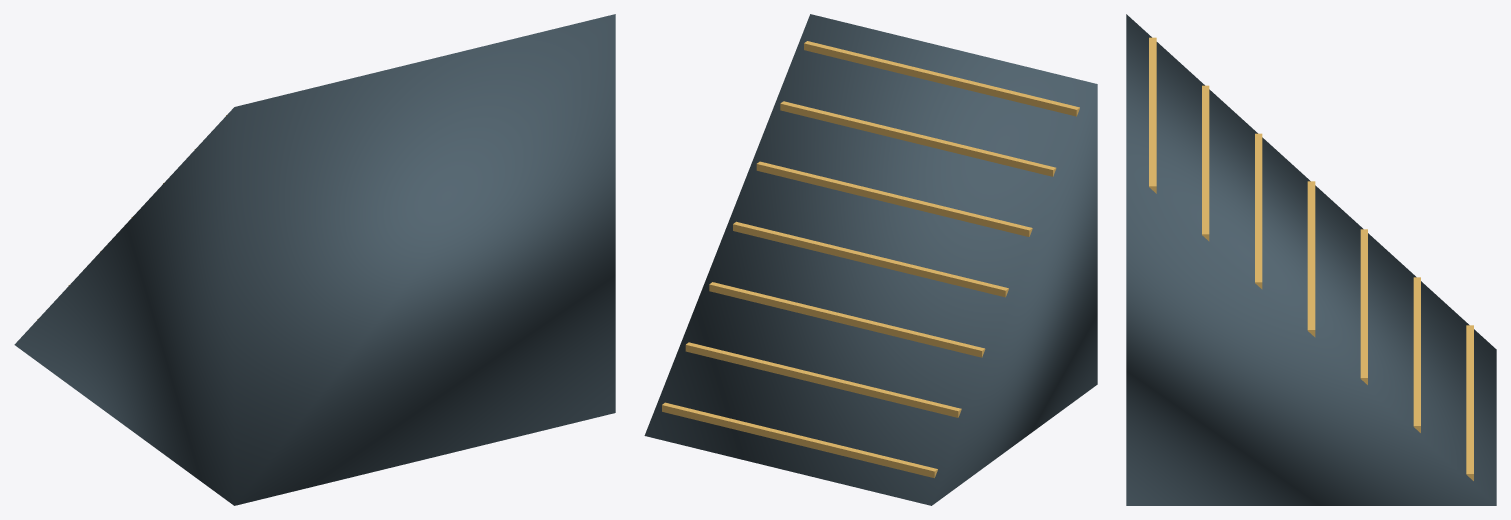
File: terrain-ramp.glb
3 renders of one model, left to right at view 1: azimuth 30°, elevation 25°; view 2: azimuth 150°, elevation 25°; view 3: azimuth 270°, elevation 25°, orthographic. The views are drawn at different scales.
Parts seen in each view (by area): view 1: terrain-ramp; view 2: terrain-ramp; view 3: terrain-ramp.
Boxes of the visible parts, left/top/right/bottom form: terrain-ramp: left=14, top=14, right=615, bottom=505; terrain-ramp: left=644, top=14, right=1097, bottom=505; terrain-ramp: left=1126, top=14, right=1496, bottom=505.
Size of the model in its own units: 1 by 1 by 1.
